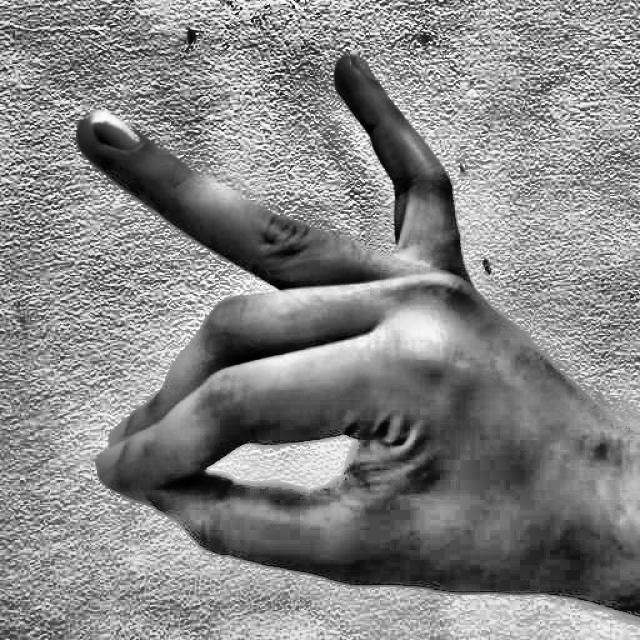Na: (51, 24, 562, 616)
